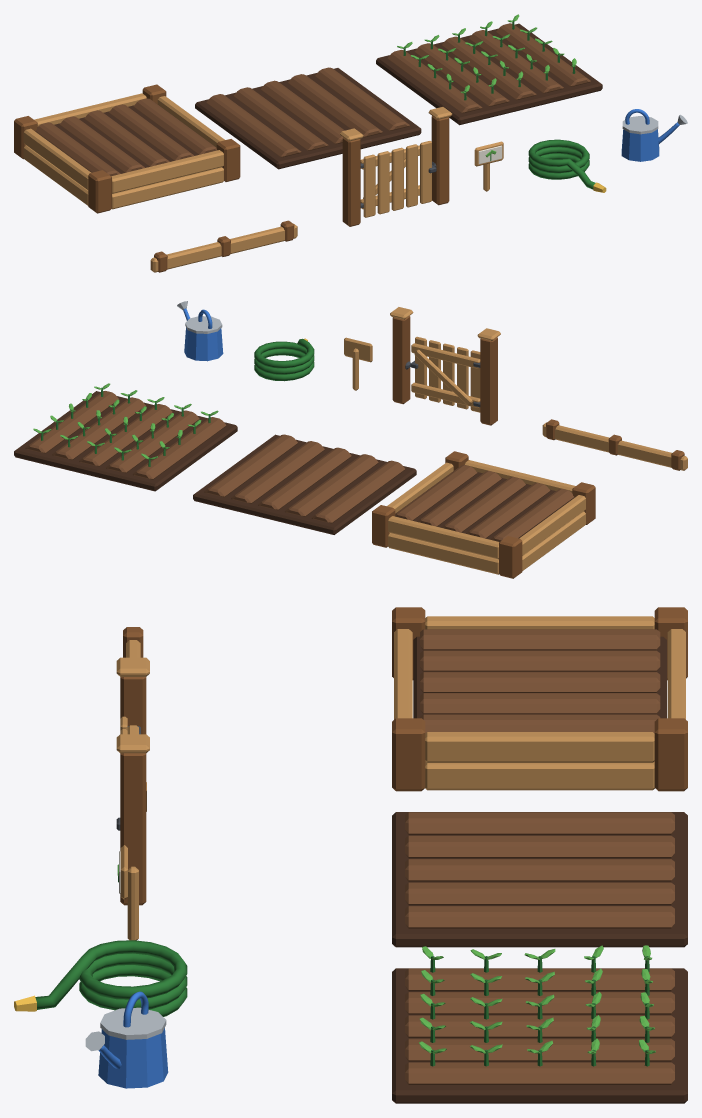
File: garden-plot-kit.glb
3 renders of one model, top to bottom at view 1: azimuth 30°, elevation 25°; view 2: azimuth 150°, elevation 25°; view 3: azimuth 270°, elevation 25°, orthographic. The views are drawn at different scales.
Visible parts, largest first — view 1: GardenPlot_Tilled_Soil, GardenPlot_Sprouts_Soil, GardenBed_Raised_Wood, GardenBed_Raised_Soil, GardenPlot_Tilled_SoilDark, GardenPlot_Sprouts_SoilDark, Door, GardenGate_WoodDark, GardenBed_Raised_WoodDark, HoseCoil_Hose, GardenEdging_Wood, GardenBed_Raised_SoilDark (+7 smaller); view 2: GardenPlot_Tilled_Soil, GardenPlot_Sprouts_Soil, GardenBed_Raised_Wood, GardenBed_Raised_Soil, GardenPlot_Tilled_SoilDark, GardenPlot_Sprouts_SoilDark, Door, GardenGate_WoodDark, GardenBed_Raised_WoodDark, HoseCoil_Hose, GardenEdging_Wood, GardenBed_Raised_SoilDark (+6 smaller); view 3: GardenPlot_Tilled_Soil, GardenPlot_Sprouts_Soil, GardenBed_Raised_Soil, GardenBed_Raised_Wood, GardenPlot_Tilled_SoilDark, GardenPlot_Sprouts_SoilDark, HoseCoil_Hose, GardenBed_Raised_WoodDark, GardenGate_WoodDark, GardenPlot_Sprouts_Foliage, WateringCan_PaintBlue, WateringCan_Metal (+4 smaller).
Boxes of the visible parts, left/top/right/bottom form: GardenPlot_Tilled_Soil: left=206, top=67, right=409, bottom=157; GardenPlot_Sprouts_Soil: left=387, top=23, right=590, bottom=113; GardenBed_Raised_Wood: left=23, top=93, right=224, bottom=209; GardenBed_Raised_Soil: left=35, top=98, right=216, bottom=176; GardenPlot_Tilled_SoilDark: left=195, top=68, right=421, bottom=169; GardenPlot_Sprouts_SoilDark: left=376, top=23, right=602, bottom=125; Door: left=360, top=141, right=431, bottom=217; GardenGate_WoodDark: left=342, top=116, right=449, bottom=226; GardenBed_Raised_WoodDark: left=14, top=84, right=240, bottom=213; HoseCoil_Hose: left=528, top=139, right=595, bottom=189; GardenEdging_Wood: left=150, top=223, right=297, bottom=272; GardenBed_Raised_SoilDark: left=35, top=105, right=215, bottom=173; GardenPlot_Tilled_Soil: left=204, top=434, right=405, bottom=523; GardenPlot_Sprouts_Soil: left=25, top=391, right=226, bottom=479; GardenBed_Raised_Wood: left=387, top=460, right=585, bottom=574; GardenBed_Raised_Soil: left=395, top=465, right=574, bottom=541; GardenPlot_Tilled_SoilDark: left=193, top=434, right=416, bottom=534; GardenPlot_Sprouts_SoilDark: left=14, top=391, right=237, bottom=491; Door: left=411, top=336, right=480, bottom=412; GardenGate_WoodDark: left=392, top=316, right=497, bottom=425; GardenBed_Raised_WoodDark: left=372, top=451, right=595, bottom=578; HoseCoil_Hose: left=254, top=338, right=314, bottom=381; GardenEdging_Wood: left=542, top=422, right=687, bottom=470; GardenBed_Raised_SoilDark: left=398, top=470, right=573, bottom=539; GardenPlot_Tilled_Soil: left=405, top=812, right=674, bottom=928; GardenPlot_Sprouts_Soil: left=405, top=968, right=674, bottom=1084; GardenBed_Raised_Soil: left=420, top=629, right=660, bottom=733; GardenBed_Raised_Wood: left=394, top=616, right=685, bottom=790; GardenPlot_Tilled_SoilDark: left=392, top=812, right=687, bottom=947; GardenPlot_Sprouts_SoilDark: left=392, top=968, right=687, bottom=1103; HoseCoil_Hose: left=35, top=940, right=187, bottom=1016; GardenBed_Raised_WoodDark: left=392, top=607, right=687, bottom=791; GardenGate_WoodDark: left=120, top=677, right=146, bottom=905; GardenPlot_Sprouts_Foliage: left=419, top=945, right=655, bottom=1054; WateringCan_PaintBlue: left=98, top=1028, right=168, bottom=1088; WateringCan_Metal: left=85, top=1007, right=166, bottom=1051.
Bounding box in the file's own units: 29.02 × 4.82 × 18.23.
